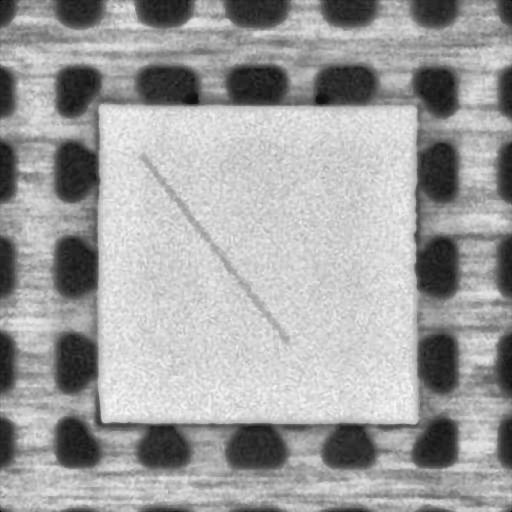DIE_CRACK: (141, 154, 285, 340)
